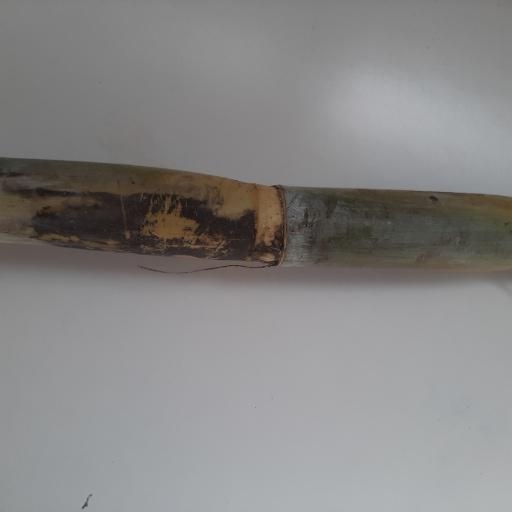Bud: (251, 245, 280, 262)
